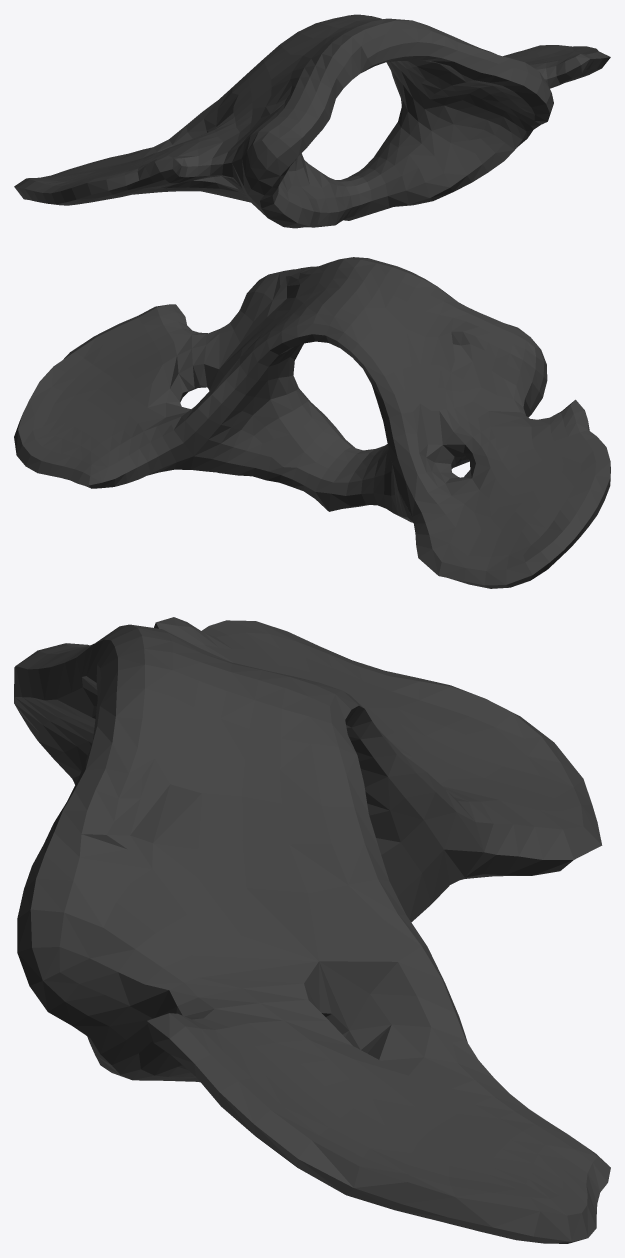
File: C1_Atlas.glb
3 views of the same model, one above another, from view 1: azimuth 30°, elevation 25°; view 2: azimuth 150°, elevation 25°; view 3: azimuth 270°, elevation 25° (orthographic). The views are drawn at different scales.
Parts seen in each view (by area): view 1: C1_Atlas; view 2: C1_Atlas; view 3: C1_Atlas.
Part boxes in pixels (x1,y1,x2,y2): C1_Atlas: (14,14,610,228); C1_Atlas: (14,257,610,588); C1_Atlas: (14,617,610,1243).
Size of the model in its own units: 1.22 by 0.4647 by 0.5769.
1 material, 1 textured.
